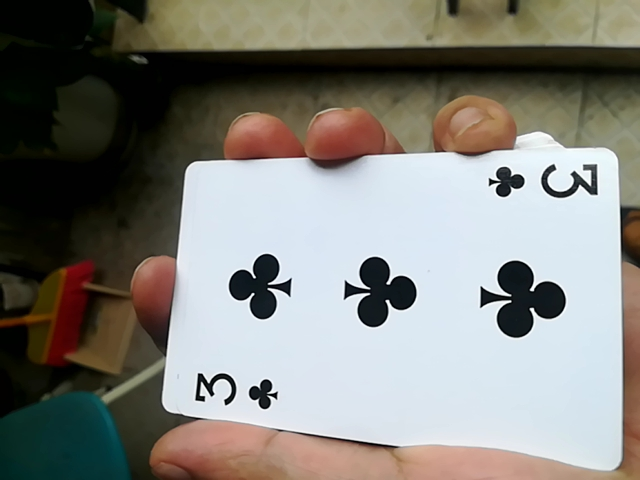mh 3: (145, 153, 624, 469)
